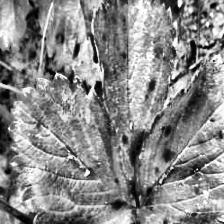Leaf Spot: (7, 71, 132, 224), (92, 0, 178, 205), (136, 53, 224, 224)
